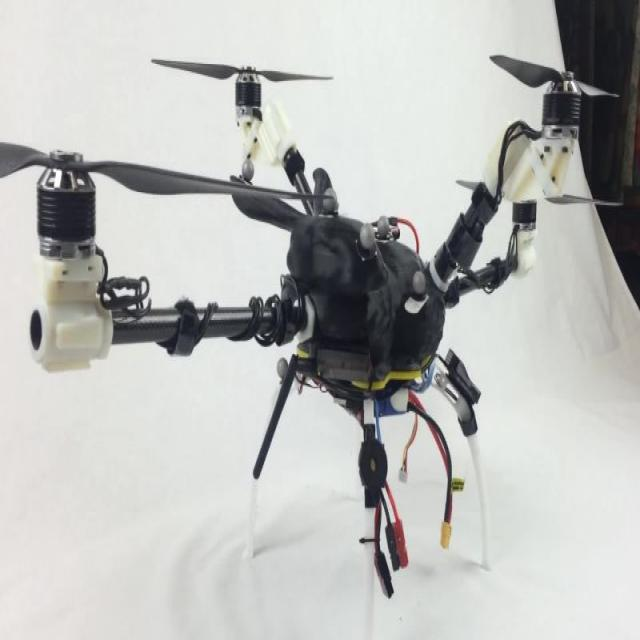drone: (0, 9, 610, 608)
